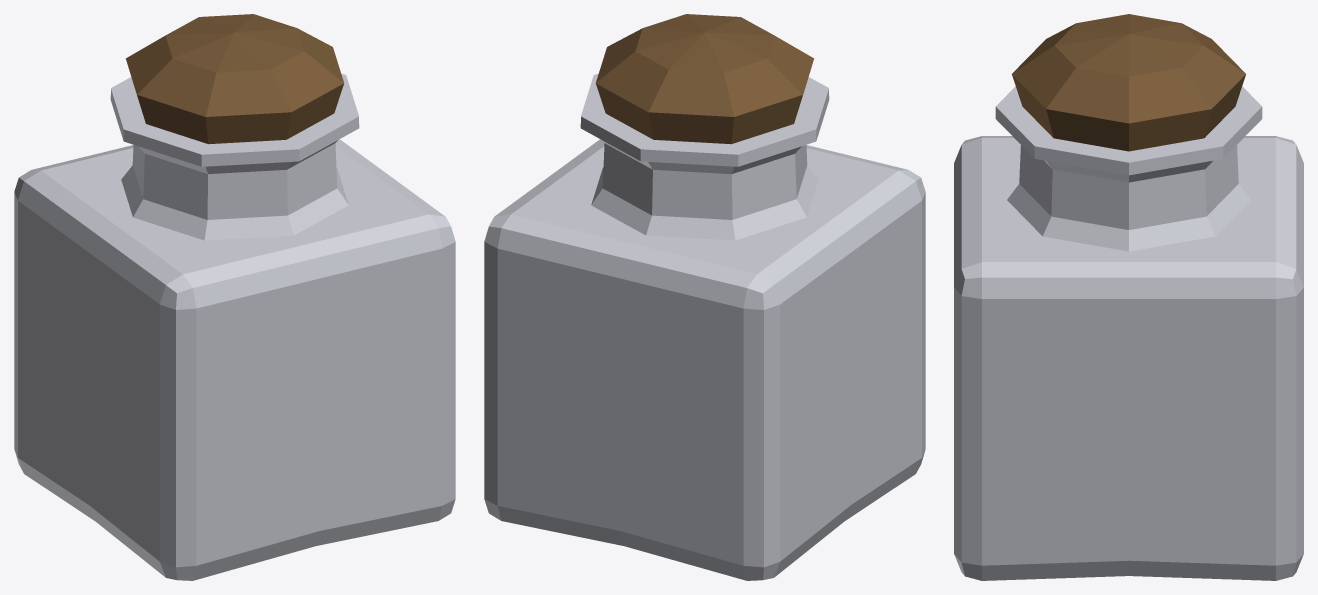
File: Sweet-Jar_01.fbx
The picture shows the model from 3 angles, left to right: view 1: azimuth 30°, elevation 25°; view 2: azimuth 150°, elevation 25°; view 3: azimuth 270°, elevation 25°; orthographic projection. The views are drawn at different scales.
Parts seen in each view (by area): view 1: Sweet_Jar; view 2: Sweet_Jar; view 3: Sweet_Jar.
Boxes of the visible parts, <box> form: Sweet_Jar: <box>14,14,455,580</box>; Sweet_Jar: <box>484,14,925,580</box>; Sweet_Jar: <box>954,14,1303,580</box>.
Bounding box in the file's own units: 0.156 × 0.2376 × 0.156.
